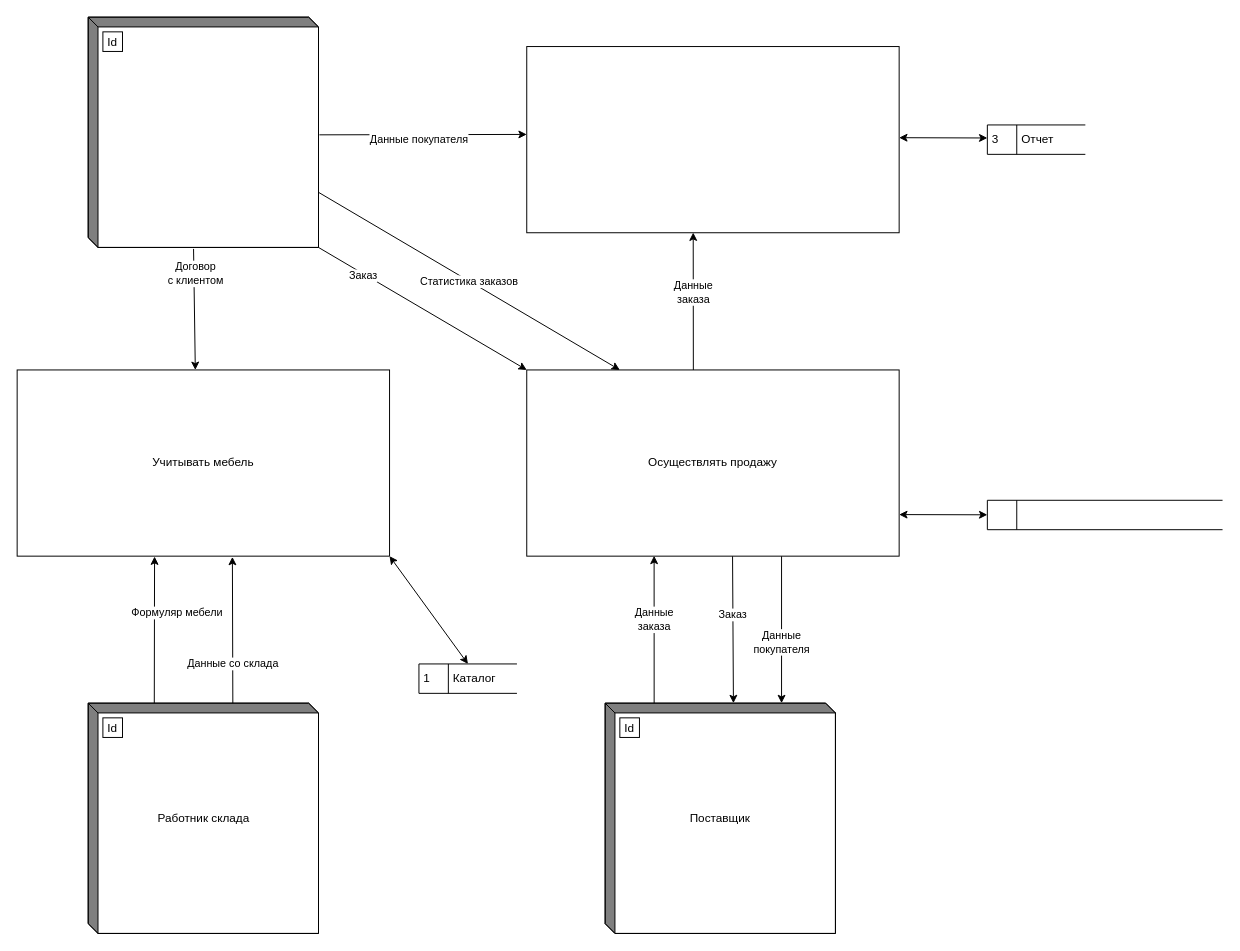
Some shapes in this 1240 by 951 pixel diagram are drawn without their labels. Here are the shapes that lost their labels. From the top down, the centre of each, then its label:
(x=202, y=131): Менеджер
(x=712, y=139): Формировать отчет
(x=1104, y=514): 2 Продажа
